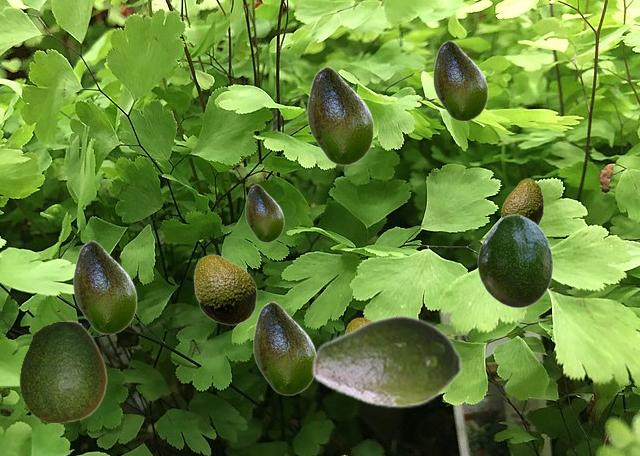avocado: (311, 314, 462, 408), (19, 320, 106, 422), (477, 214, 552, 307), (307, 66, 373, 164), (73, 240, 136, 333), (253, 301, 315, 394), (193, 254, 256, 324), (433, 40, 487, 120), (245, 184, 283, 241), (501, 178, 542, 225), (344, 317, 370, 332)
